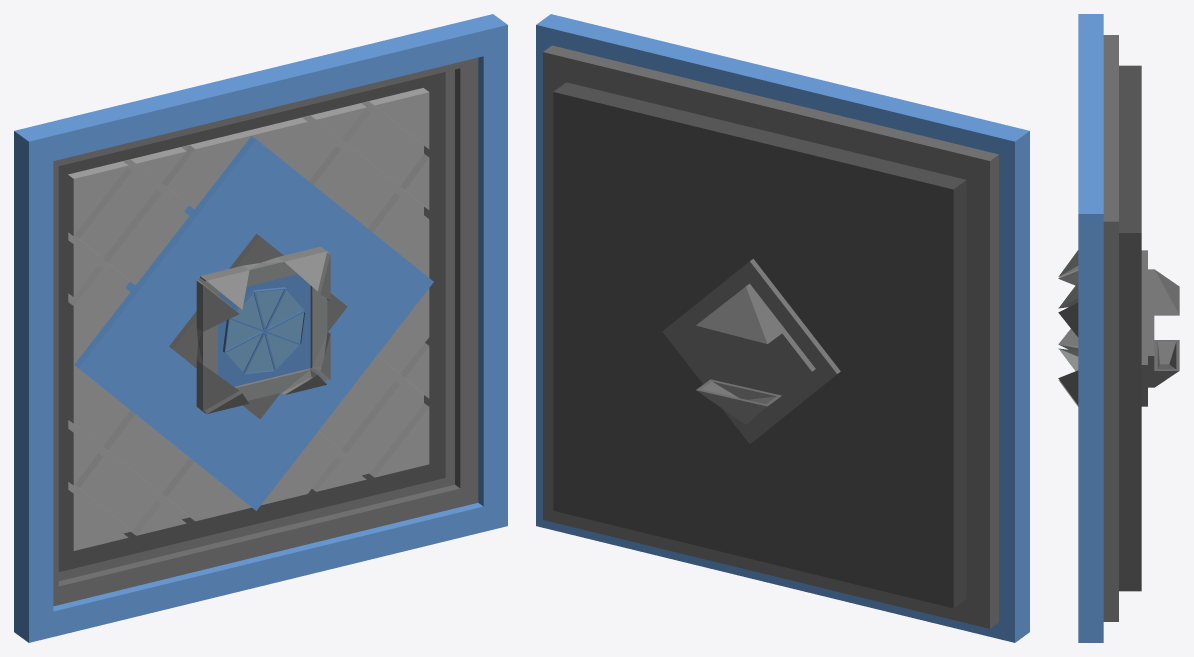
Rendered from LaserEmmiter.fbx.
3 views of the same model, side by side, from view 1: azimuth 30°, elevation 25°; view 2: azimuth 150°, elevation 25°; view 3: azimuth 270°, elevation 25° (orthographic). The views are drawn at different scales.
Visible parts, largest first — view 1: polySurface12, polySurface11, polySurface14, polySurface18, polySurface13, polySurface9, polySurface8, polySurface17; view 2: polySurface13, polySurface18, polySurface11, polySurface15, polySurface16; view 3: polySurface11, polySurface13, polySurface18, polySurface15, polySurface9, polySurface16.
Part boxes in pixels (x1,y1,x2,y2): polySurface12: [68, 88, 429, 550]; polySurface11: [14, 14, 507, 642]; polySurface14: [74, 136, 433, 510]; polySurface18: [53, 57, 478, 606]; polySurface13: [58, 72, 445, 571]; polySurface9: [196, 246, 330, 414]; polySurface8: [223, 287, 305, 374]; polySurface17: [169, 234, 347, 419]; polySurface13: [553, 82, 966, 608]; polySurface18: [543, 45, 998, 628]; polySurface11: [536, 14, 1029, 642]; polySurface15: [680, 283, 815, 424]; polySurface16: [662, 258, 840, 443]; polySurface11: [1078, 14, 1103, 642]; polySurface13: [1119, 65, 1141, 591]; polySurface18: [1103, 35, 1118, 621]; polySurface15: [1148, 269, 1179, 387]; polySurface9: [1058, 250, 1078, 406]; polySurface16: [1141, 250, 1147, 406].
Size of the model in its own units: 106 by 106 by 27.34.
